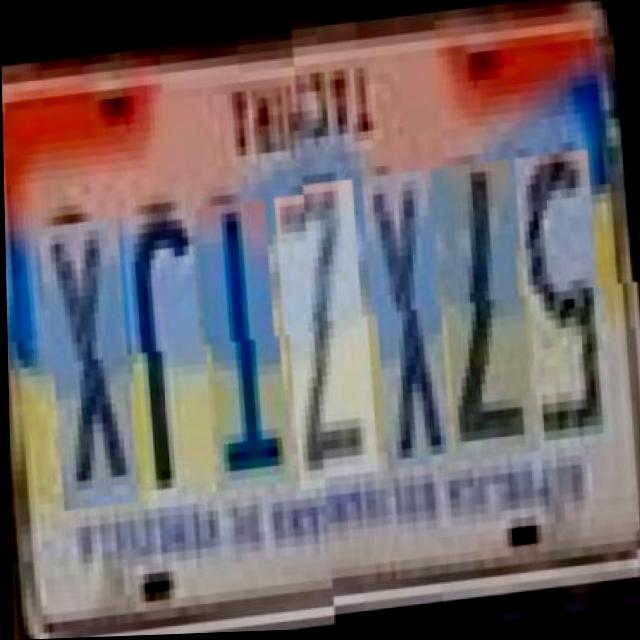5: (517, 154, 610, 454)
7: (434, 160, 531, 462)
j: (120, 192, 212, 484)
t: (199, 185, 284, 477)
x: (42, 200, 132, 492), (366, 169, 447, 469)
z: (277, 176, 373, 478)
